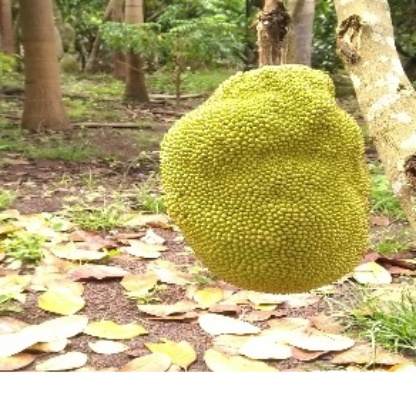mit: (163, 58, 390, 293)
